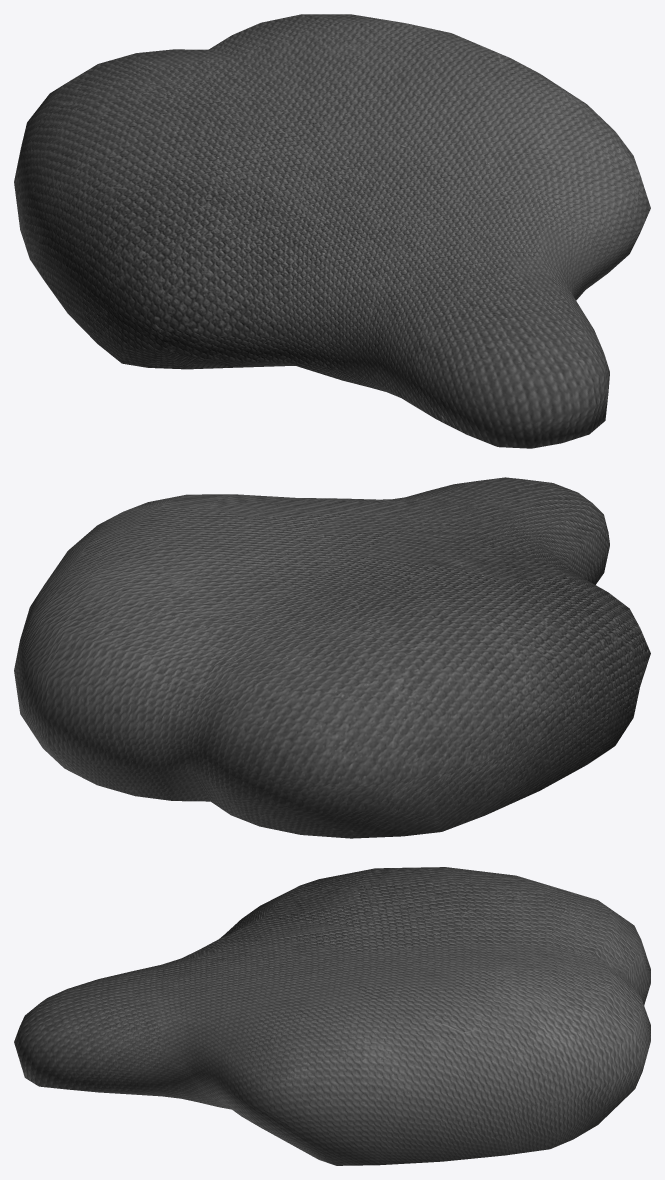
Rendered from Bike Seat.fbx.
3 views of the same model, one above another, from view 1: azimuth 30°, elevation 25°; view 2: azimuth 150°, elevation 25°; view 3: azimuth 270°, elevation 25° (orthographic). The views are drawn at different scales.
Parts seen in each view (by area): view 1: Bike Seat; view 2: Bike Seat; view 3: Bike Seat.
Boxes of the visible parts, x1,y1,x2,y2 form: Bike Seat: (14, 14, 650, 448); Bike Seat: (14, 477, 650, 838); Bike Seat: (14, 867, 650, 1165).
Size of the model in its own units: 24.46 by 7.23 by 31.31.
